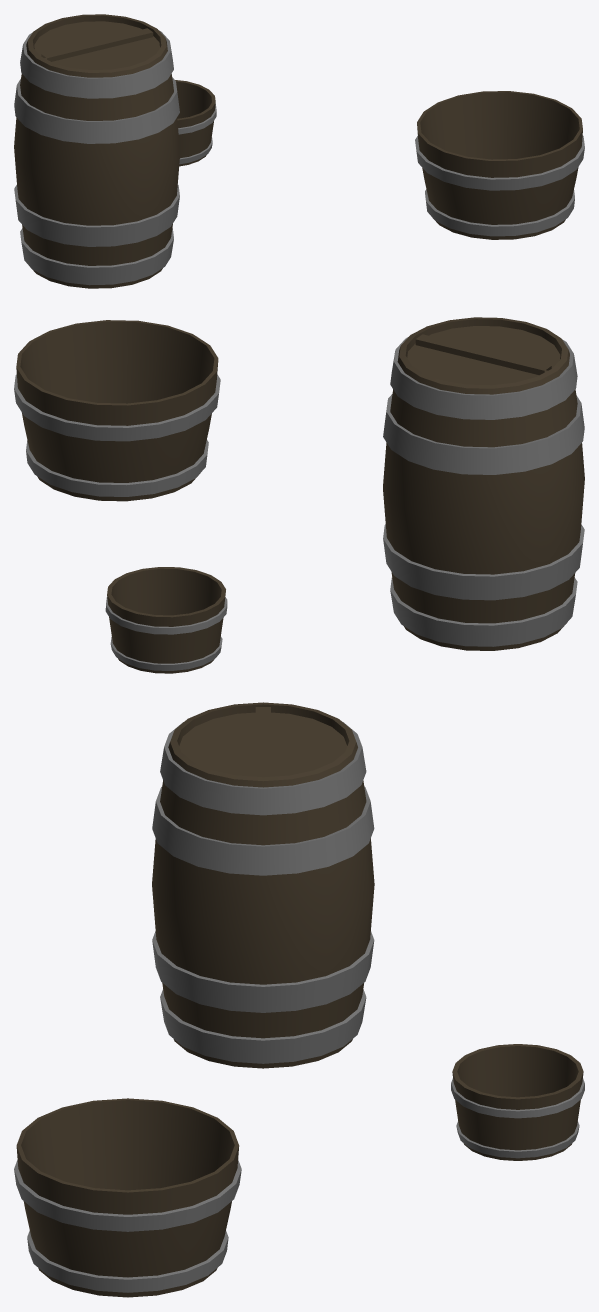
Rendered from Barrels.fbx.
3 renders of one model, top to bottom at view 1: azimuth 30°, elevation 25°; view 2: azimuth 150°, elevation 25°; view 3: azimuth 270°, elevation 25°, orthographic. The views are drawn at different scales.
Visible parts, largest first — view 1: polySurface2, polySurface5, polySurface3, pCube2; view 2: polySurface2, polySurface5, pCube2, polySurface3; view 3: polySurface2, polySurface5, pCube2, polySurface3.
Boxes of the visible parts, x1,y1,x2,y2 form: polySurface2: (14, 14, 180, 288); polySurface5: (415, 91, 584, 239); polySurface3: (34, 21, 159, 69); pCube2: (175, 80, 216, 166); polySurface2: (383, 317, 584, 650); polySurface5: (14, 320, 220, 501); pCube2: (105, 567, 227, 673); polySurface3: (407, 326, 560, 385); polySurface2: (152, 702, 374, 1068); polySurface5: (14, 1098, 241, 1297); pCube2: (451, 1044, 584, 1160); polySurface3: (179, 707, 347, 777).
Size of the model in its own units: 8.08 by 3.36 by 6.01.
